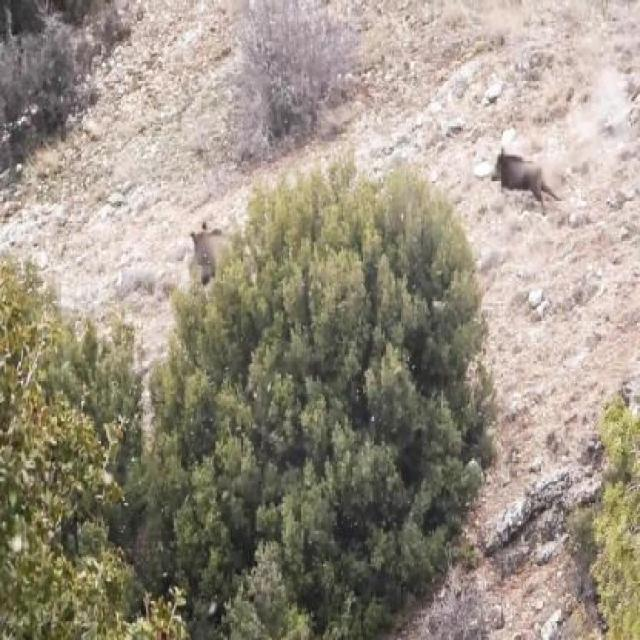pig: (469, 124, 564, 226)
